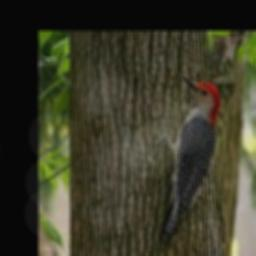Woodpecker: (155, 75, 221, 240)
